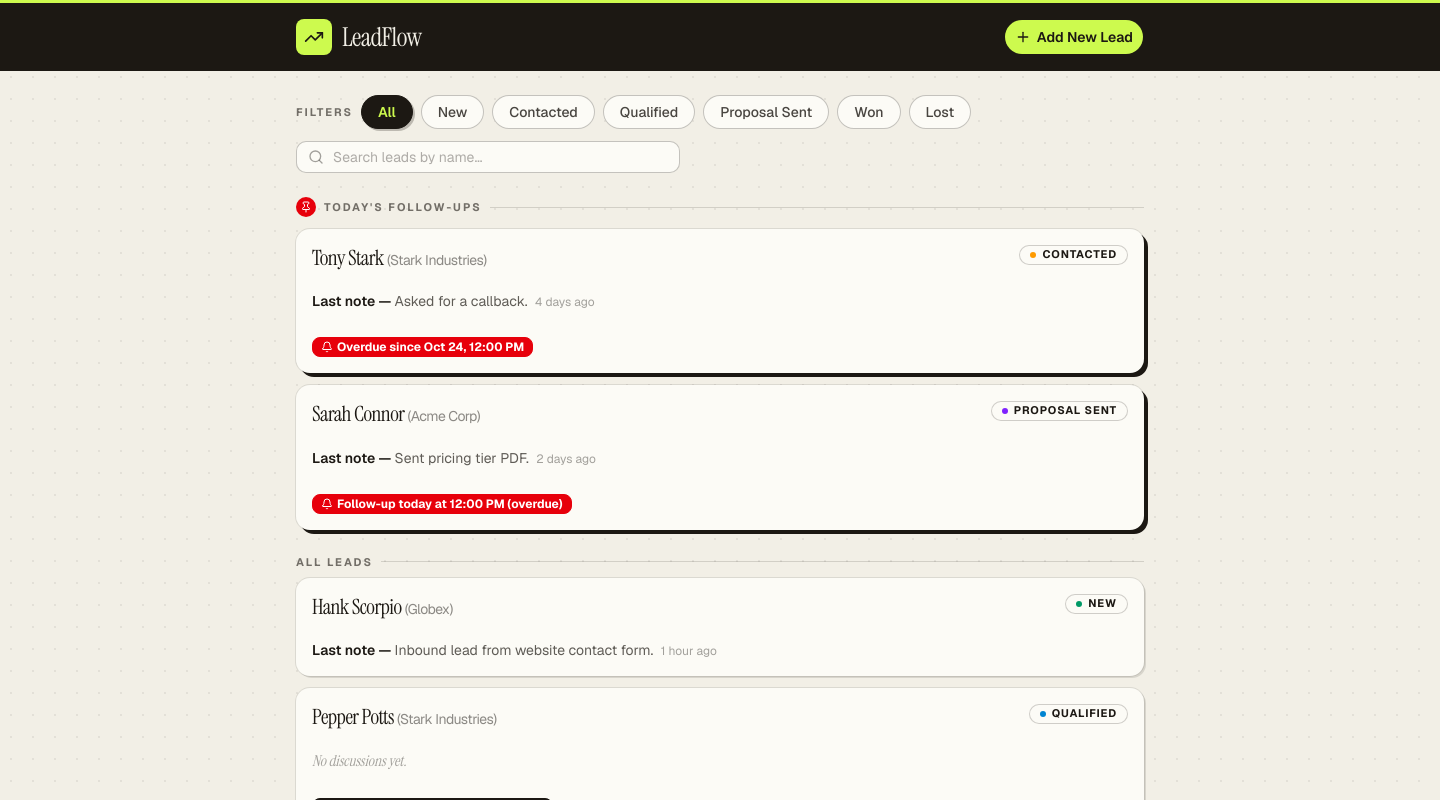
Test: DashboardPage › searches case-insensitively and combines with the status filter
The image size is (1440, 800).
Expected: the heading "Hank Scorpio (Globex)" is shown, [312,594,453,620]
Type "sarah" into the search field labelled "Search leads by name…".
click(488, 157); type("sarah")  # box [296,141,680,173]
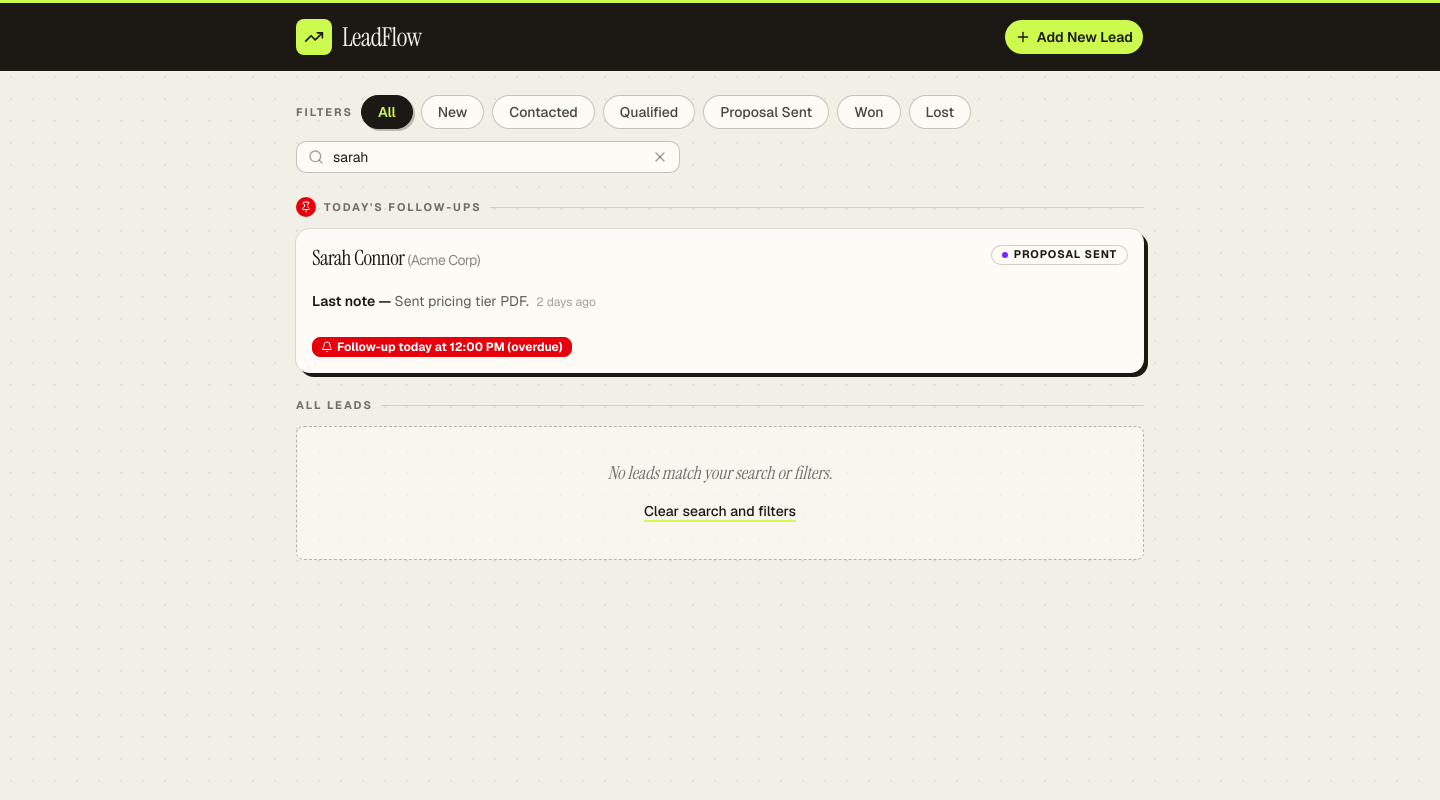
Expected: the heading "Sarah Connor (Acme Corp)" is shown, [312,245,480,271]
Expected: the button "Hank Scorpio" is gone
# Combine with a non-matching status: nothing matches.
Click the button "New".
click(452, 112)  # box [421,95,484,129]
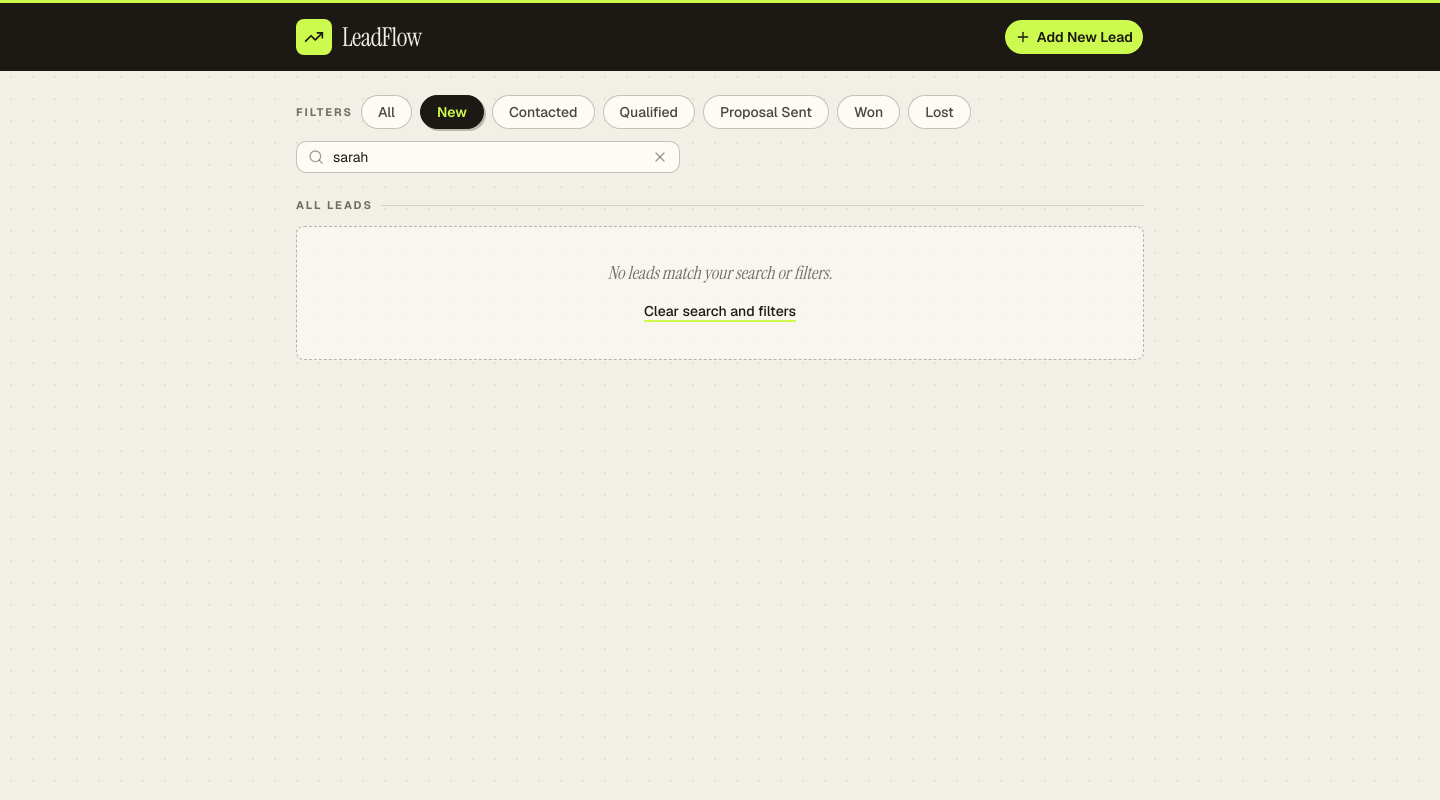
Expected: the text "No leads match your search or filters." is shown, [608,260,832,284]
Expected: the button "Sarah Connor" is gone
# Clearing restores everything.
Click the button "Clear search and filters".
click(720, 310)  # box [633,294,807,326]
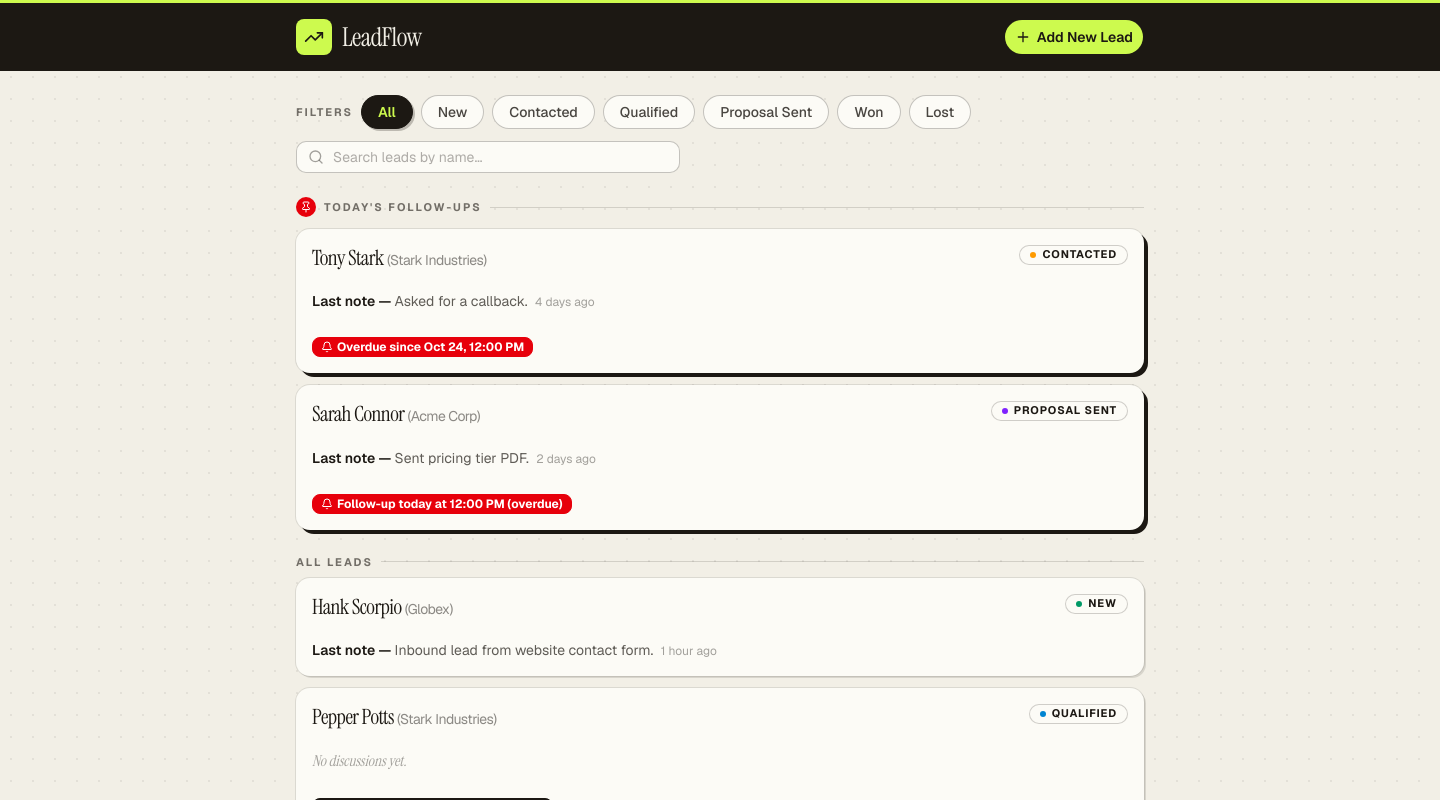
Expected: the heading "Sarah Connor (Acme Corp)" is shown, [312,401,480,428]
Expected: the heading "Hank Scorpio (Globex)" is shown, [312,594,453,620]
